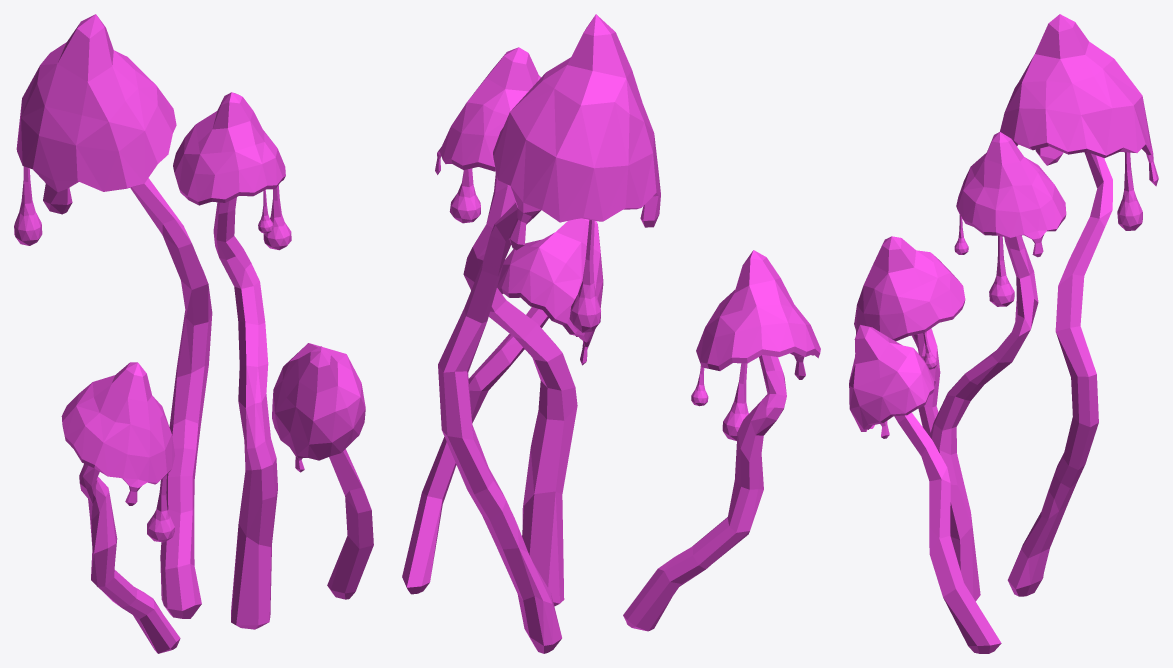
File: SM_Mushroom_Drip_Big_Cluster_C_Fantasy.fbx
3 renders of one model, left to right at view 1: azimuth 30°, elevation 25°; view 2: azimuth 150°, elevation 25°; view 3: azimuth 270°, elevation 25°, orthographic. The views are drawn at different scales.
Visible parts, largest first — view 1: SM_Mushroom_Drip_Big_Cluster_C_Fantasy; view 2: SM_Mushroom_Drip_Big_Cluster_C_Fantasy; view 3: SM_Mushroom_Drip_Big_Cluster_C_Fantasy.
Boxes of the visible parts, x1,y1,x2,y2 form: SM_Mushroom_Drip_Big_Cluster_C_Fantasy: (14, 14, 373, 653); SM_Mushroom_Drip_Big_Cluster_C_Fantasy: (402, 14, 820, 653); SM_Mushroom_Drip_Big_Cluster_C_Fantasy: (849, 14, 1158, 653).
Size of the model in its own units: 3.64 by 6.45 by 3.3.
